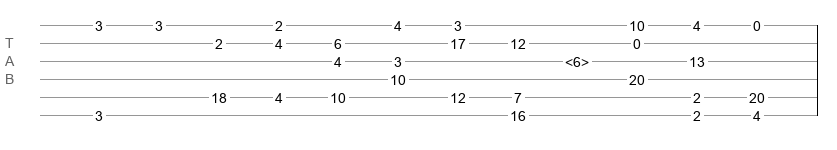0: (633, 36, 641, 46), (753, 18, 761, 28)
10: (330, 90, 346, 100), (390, 72, 406, 82), (629, 18, 645, 28)
12: (450, 90, 466, 100), (510, 36, 526, 46)
13: (689, 54, 705, 64)
16: (510, 108, 526, 118)
17: (450, 36, 466, 46)
18: (211, 90, 227, 100)
2: (215, 36, 223, 46), (275, 18, 283, 28), (693, 108, 701, 118), (693, 90, 701, 100)
20: (629, 72, 645, 82), (749, 90, 765, 100)
3: (95, 18, 103, 28), (95, 108, 103, 118), (155, 18, 163, 28), (394, 54, 402, 64), (454, 18, 462, 28)
4: (275, 90, 283, 100), (275, 36, 283, 46), (334, 54, 342, 64), (394, 18, 402, 28), (693, 18, 701, 28), (753, 108, 761, 118)
6: (334, 36, 342, 46)
7: (514, 90, 522, 100)
harmonic: (565, 54, 589, 64)
